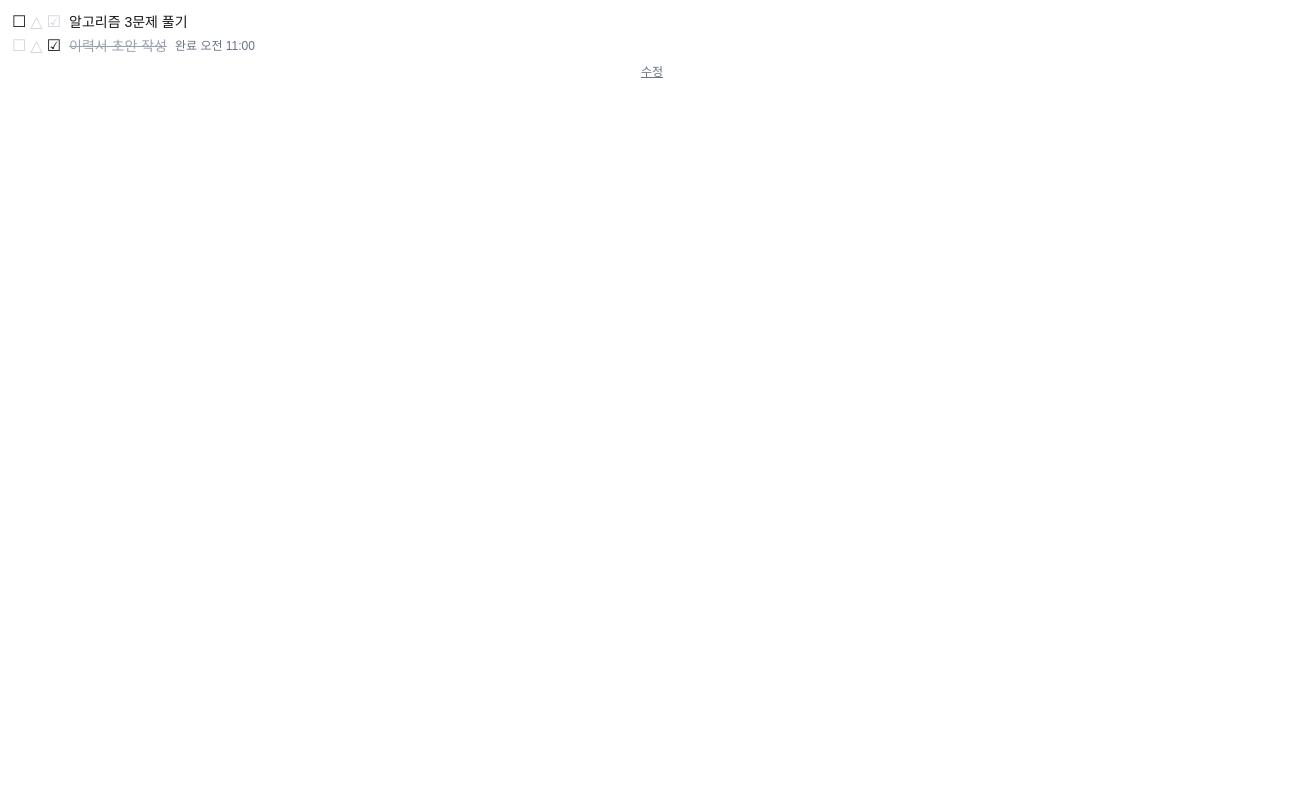
Test: GoalsEditor › inside the /tour DemoGuard, shows the demo toast instead of saving
Step 1. Click the button "수정" → point(652, 72), box [12,64,1292,80]
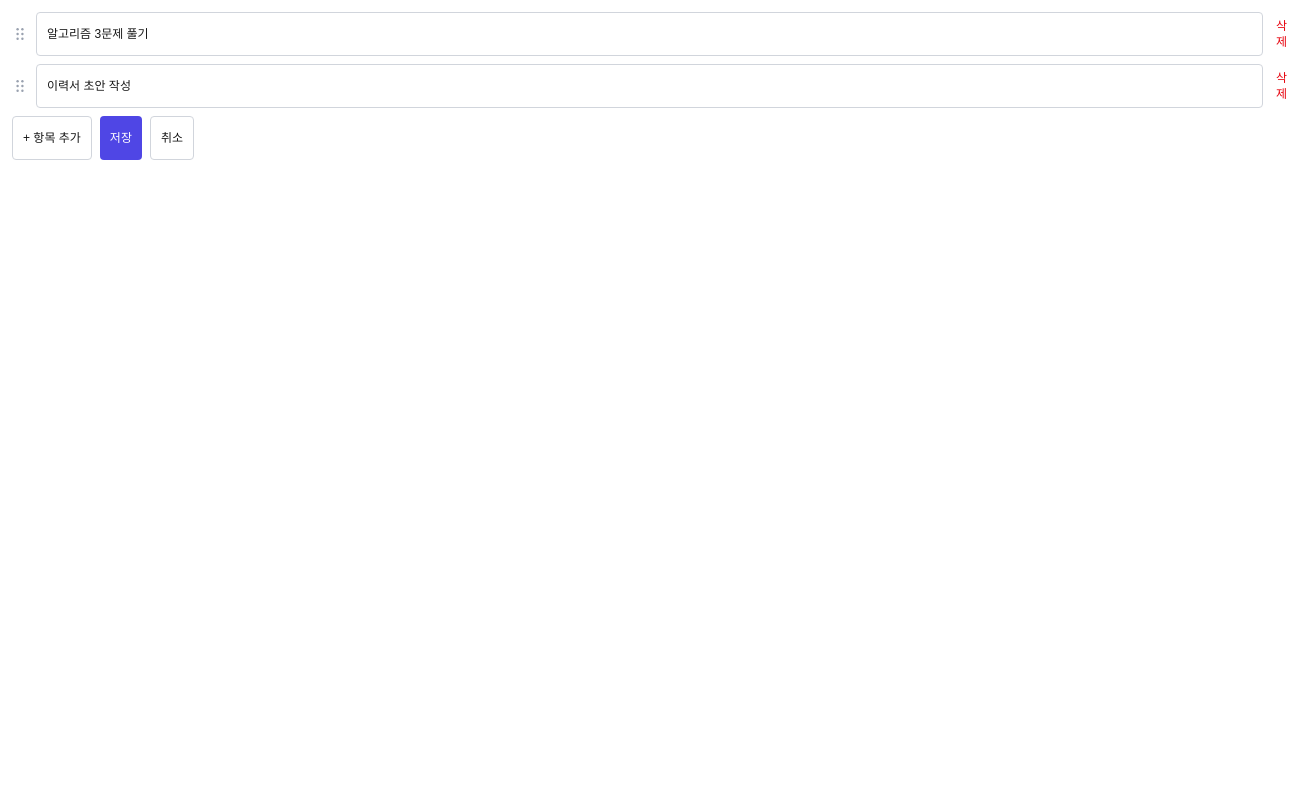
Step 2. Click the button "저장" → point(121, 138), box [100,116,142,160]
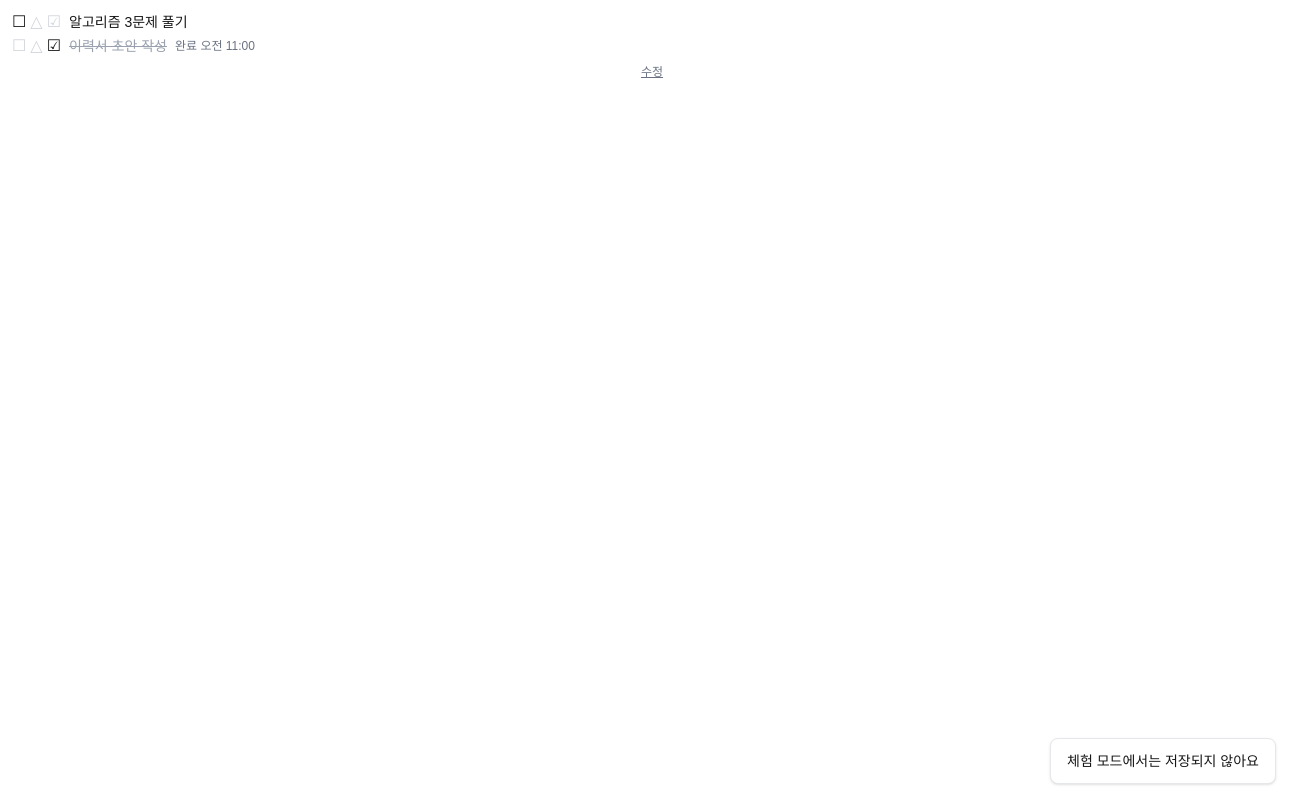
Check: the message reads "체험 모드에서는 저장되지 않아요", box [1067,753,1259,769]
